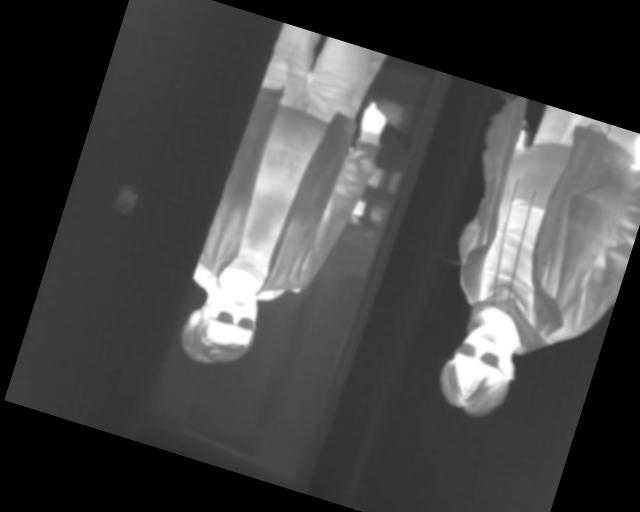face: (431, 312, 529, 426), (188, 273, 267, 370)
